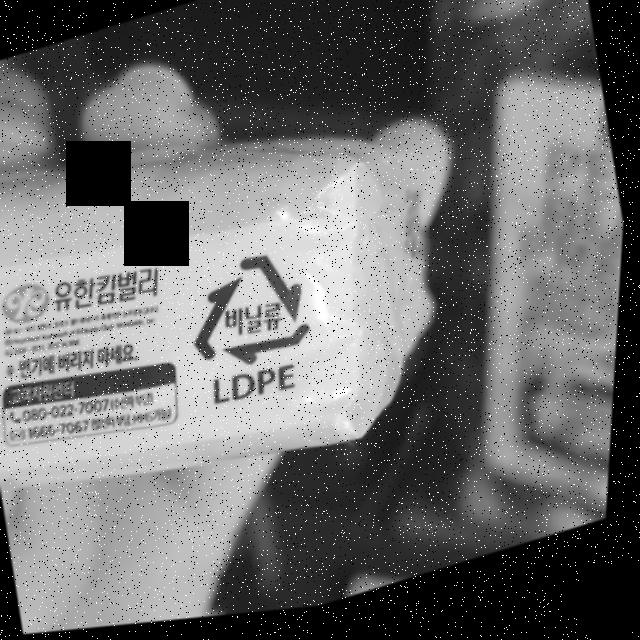Vinyl: (179, 245, 323, 388)
